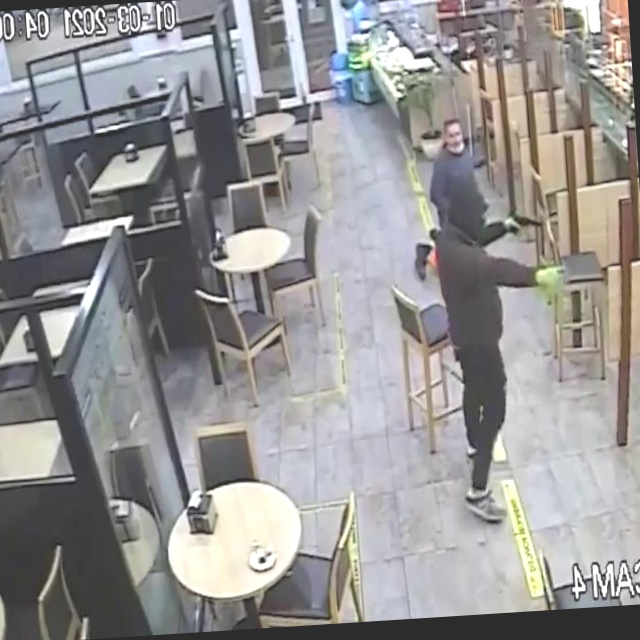gun: (496, 195, 553, 247)
